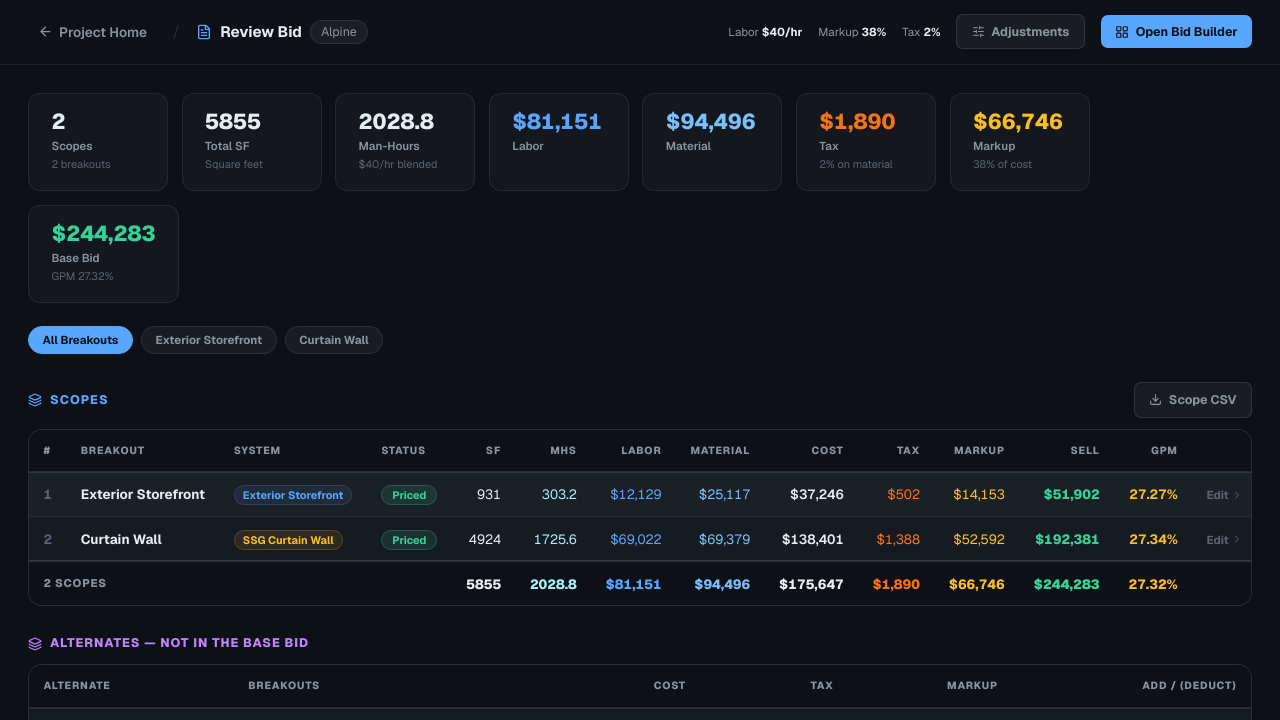
Test: ReviewBidPage — empty and edge states › breakout filter narrows the table and the footer
Click the button "Curtain Wall".
click(334, 340)  # box [285, 326, 383, 354]
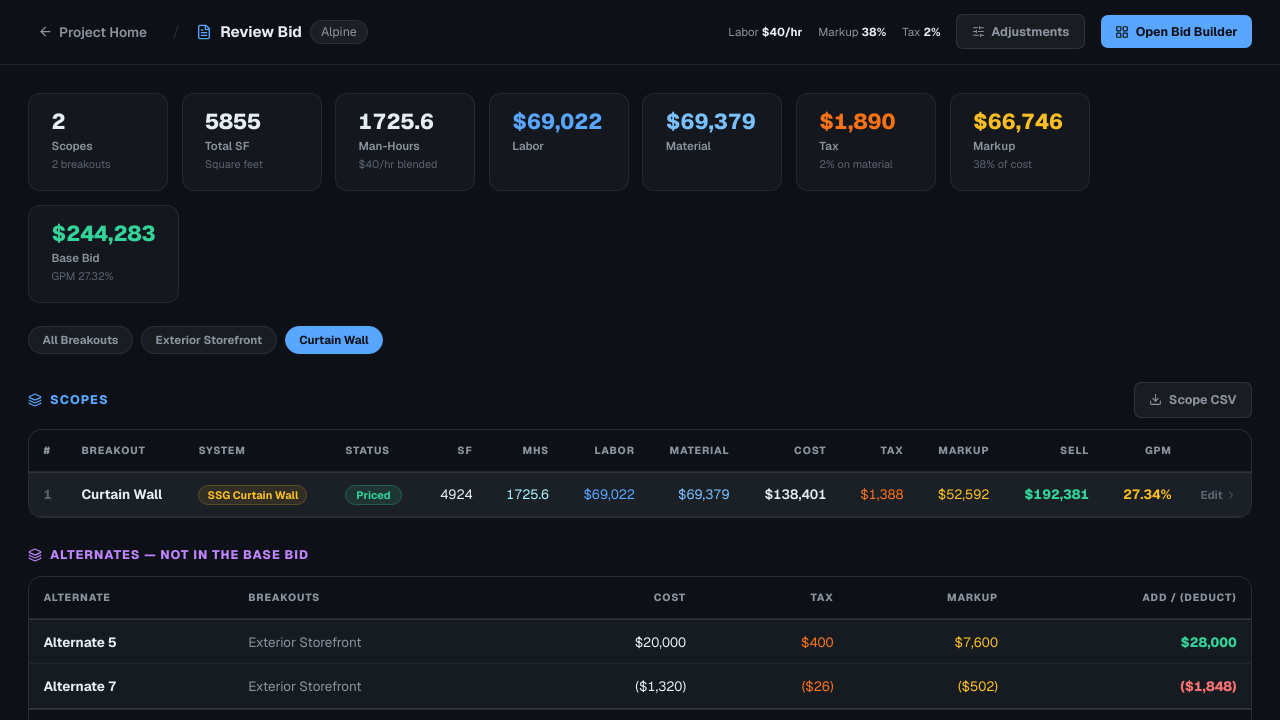
Result: the row with test id "scope-row-0" is shown at [29, 472, 1251, 517]
